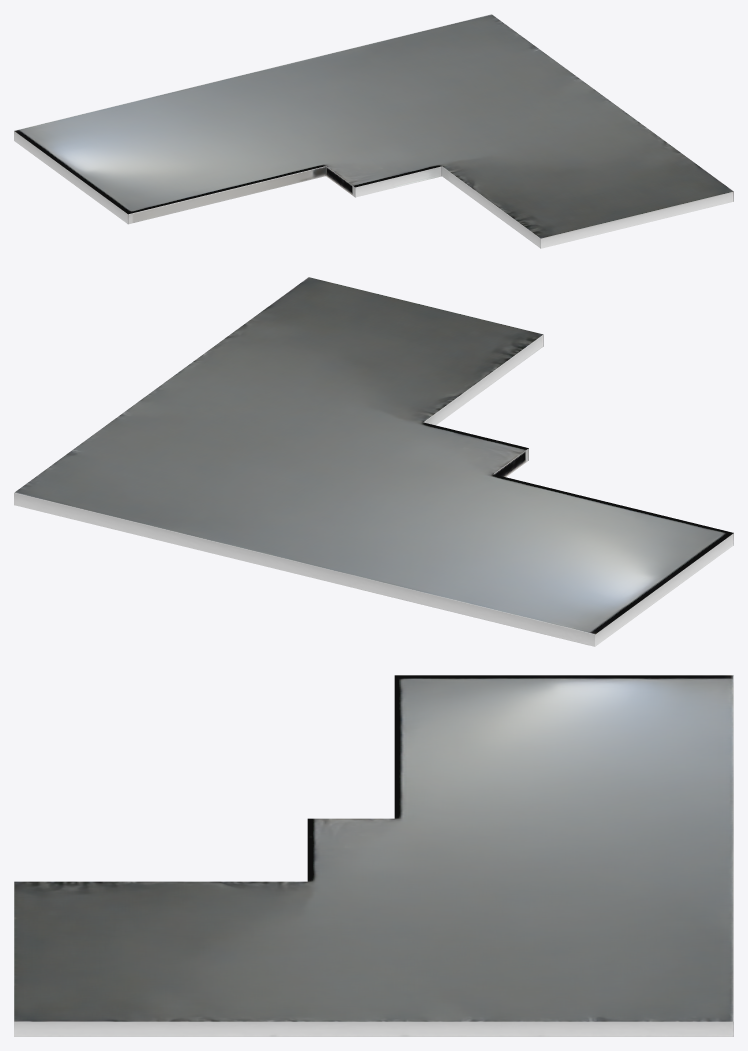
File: ceiling.gltf
The picture shows the model from 3 angles, top to bottom: view 1: azimuth 30°, elevation 25°; view 2: azimuth 150°, elevation 25°; view 3: azimuth 270°, elevation 25°; orthographic projection. The views are drawn at different scales.
Parts seen in each view (by area): view 1: ceiling; view 2: ceiling; view 3: ceiling.
Boxes of the visible parts, <box> form: ceiling: <box>14,14,733,248</box>; ceiling: <box>14,277,733,646</box>; ceiling: <box>14,675,733,1036</box>.
Size of the model in its own units: 9.9 by 0.2 by 8.7.
1 material, 1 textured.
